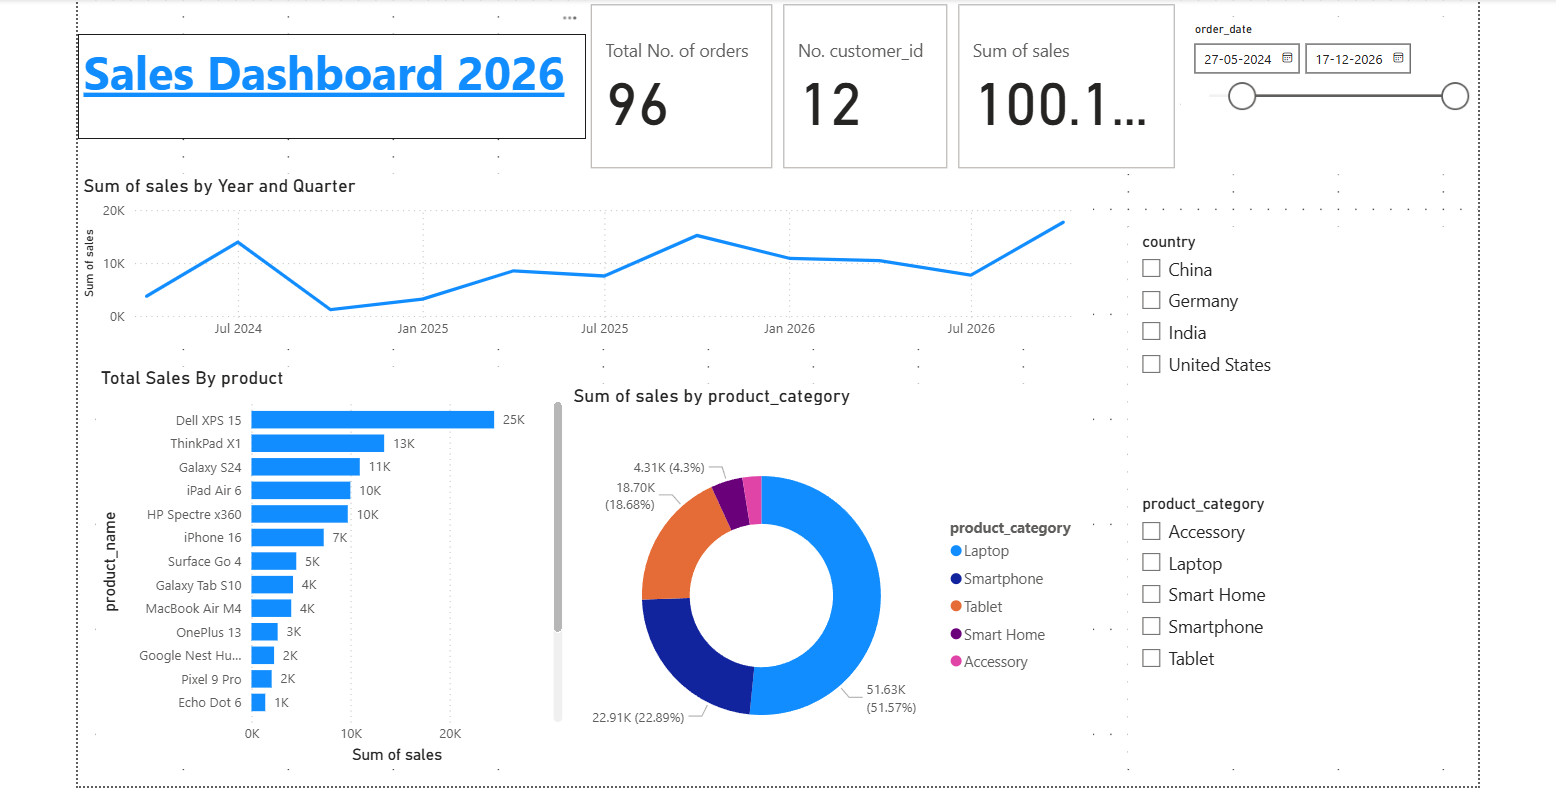

The page's visual inventory and layout, read from the dashboard file:
{"tool":"powerbi","page":{"name":"Page 1","canvas":[1280,720],"ordinal":0},"visuals":[{"type":"barChart","title":"Total Sales By product","fields":{"Category":["orders.product_name"],"Y":["Sum(orders.sales)"]},"box":[16,336,432,368],"z":0},{"type":"donutChart","fields":{"Y":["Sum(orders.sales)"],"Category":["orders.product_category"]},"box":[448,352,480,368],"z":1000},{"type":"cardVisual","fields":{"Data":["CountNonNull(orders.order_id)"]},"box":[464,0,176,160],"z":2000},{"type":"cardVisual","fields":{"Data":["Count(customers.customer_id)"]},"box":[640,0,160,160],"z":3000},{"type":"cardVisual","fields":{"Data":["Sum(orders.sales)"]},"box":[800,0,208,160],"z":4000},{"type":"lineChart","fields":{"Category":["orders.order_date.Variation.Date Hierarchy.Year","orders.order_date.Variation.Date Hierarchy.Quarter","orders.order_date.Variation.Date Hierarchy.Month","orders.order_date.Variation.Date Hierarchy.Day"],"Y":["Sum(orders.sales)"]},"box":[0,160,928,160],"z":5000},{"type":"slicer","fields":{"Values":["orders.product_category"]},"box":[960,448,320,256],"z":6000},{"type":"slicer","fields":{"Values":["customers.country"]},"box":[960,208,320,240],"z":7000},{"type":"slicer","fields":{"Values":["orders.order_date"]},"box":[1008,16,272,144],"z":8000},{"type":"textbox","box":[0,32,464,96],"z":9000}]}

Visuals, with their boxes on the page's 1280x720 design canvas (x1, y1, x2, y2). These are canvas units, not pixel positions in the 1556x788 screenshot, which may show the page scaled, cropped or inside an application window:
"Total Sales By product" barChart: x1=16 y1=336 x2=448 y2=704
donutChart - Sum(orders.sales) x orders.product_category: x1=448 y1=352 x2=928 y2=720
cardVisual - CountNonNull(orders.order_id): x1=464 y1=0 x2=640 y2=160
cardVisual - Count(customers.customer_id): x1=640 y1=0 x2=800 y2=160
cardVisual - Sum(orders.sales): x1=800 y1=0 x2=1008 y2=160
lineChart - orders.order_date.Variation.Date Hierarchy.Year x orders.order_date.Variation.Date Hierarchy.Quarter: x1=0 y1=160 x2=928 y2=320
slicer - orders.product_category: x1=960 y1=448 x2=1280 y2=704
slicer - customers.country: x1=960 y1=208 x2=1280 y2=448
slicer - orders.order_date: x1=1008 y1=16 x2=1280 y2=160
textbox: x1=0 y1=32 x2=464 y2=128
